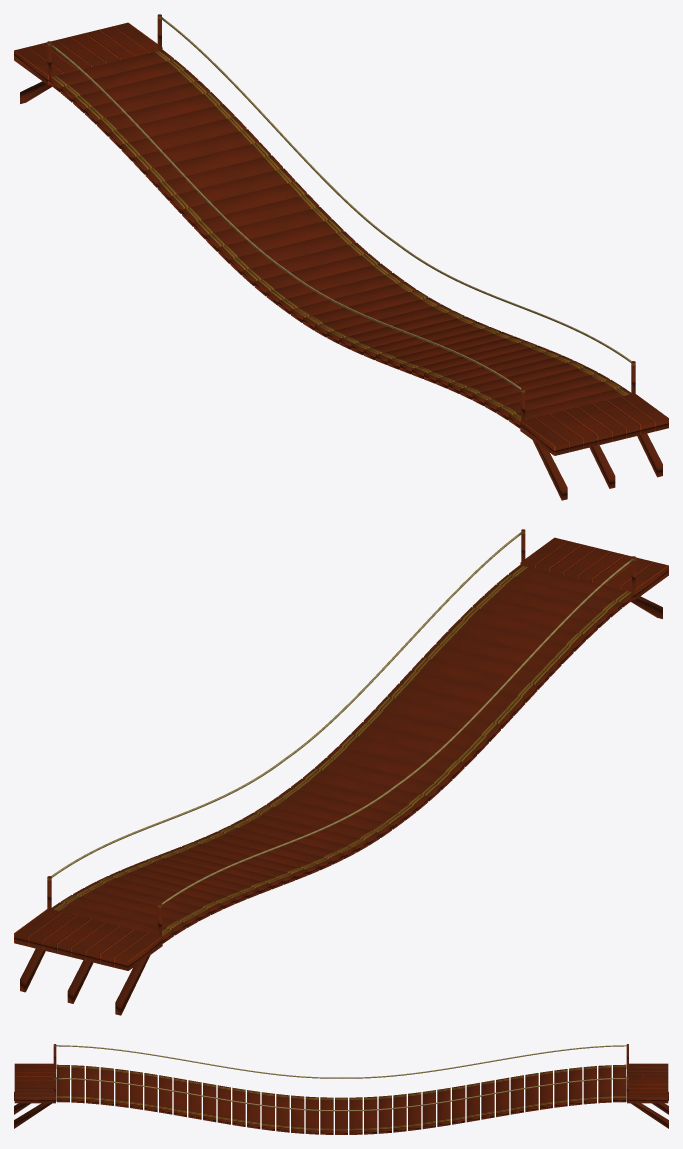
File: Rope Bridge.fbx
The picture shows the model from 3 angles, top to bottom: view 1: azimuth 30°, elevation 25°; view 2: azimuth 150°, elevation 25°; view 3: azimuth 270°, elevation 25°; orthographic projection. The views are drawn at different scales.
Parts seen in each view (by area): view 1: Cube.008, Cube, Cube.001; view 2: Cube.008, Cube.001, Cube; view 3: Cube.008, Cube.001, Cube.
Part boxes in pixels (x1,y1,x2,y2): Cube.008: (47, 14, 635, 428); Cube: (520, 394, 668, 500); Cube.001: (14, 22, 162, 103); Cube.008: (47, 529, 635, 943); Cube.001: (14, 909, 162, 1015); Cube: (520, 537, 668, 618); Cube.008: (53, 1044, 628, 1134); Cube.001: (627, 1063, 668, 1128); Cube: (14, 1063, 55, 1128).
Size of the model in its own units: 6 by 4.74 by 49.2.
